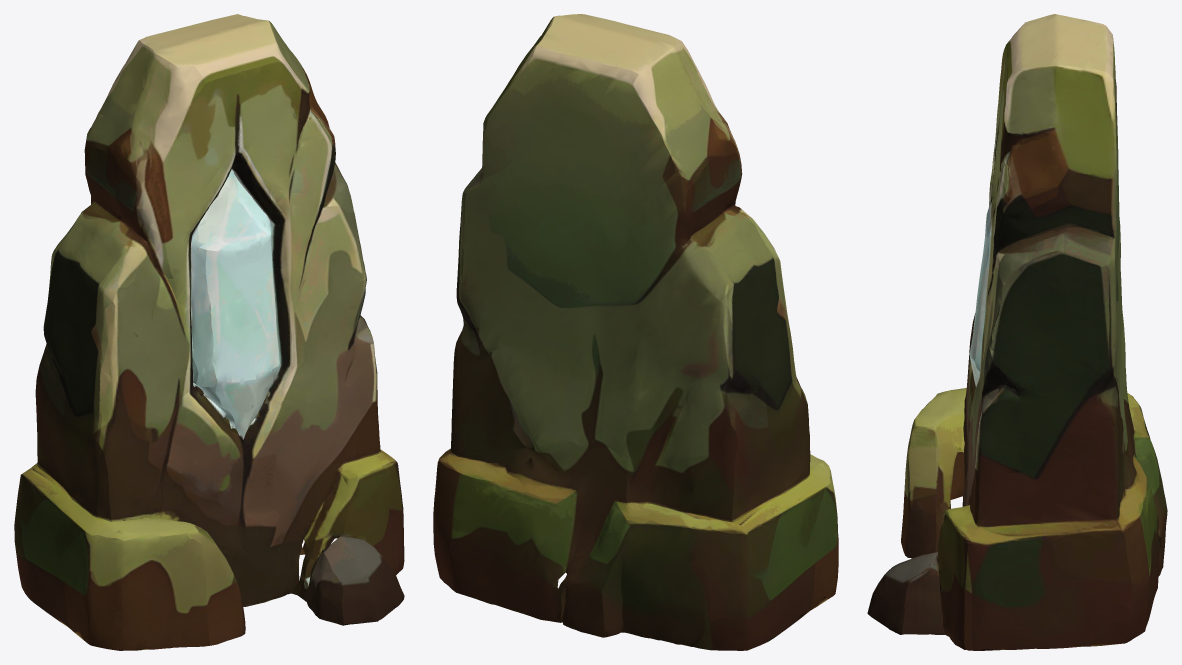
File: item_ancient_warden_core.glb
3 renders of one model, left to right at view 1: azimuth 30°, elevation 25°; view 2: azimuth 150°, elevation 25°; view 3: azimuth 270°, elevation 25°, orthographic. The views are drawn at different scales.
Visible parts, largest first — view 1: item_ancient_warden_core; view 2: item_ancient_warden_core; view 3: item_ancient_warden_core.
Part boxes in pixels (bbox=[...]): item_ancient_warden_core: bbox=[14, 14, 404, 650]; item_ancient_warden_core: bbox=[433, 14, 838, 650]; item_ancient_warden_core: bbox=[867, 14, 1167, 650].
Bounding box in the file's own units: 0.1555 × 0.25 × 0.1256.
1 material, 1 textured.
